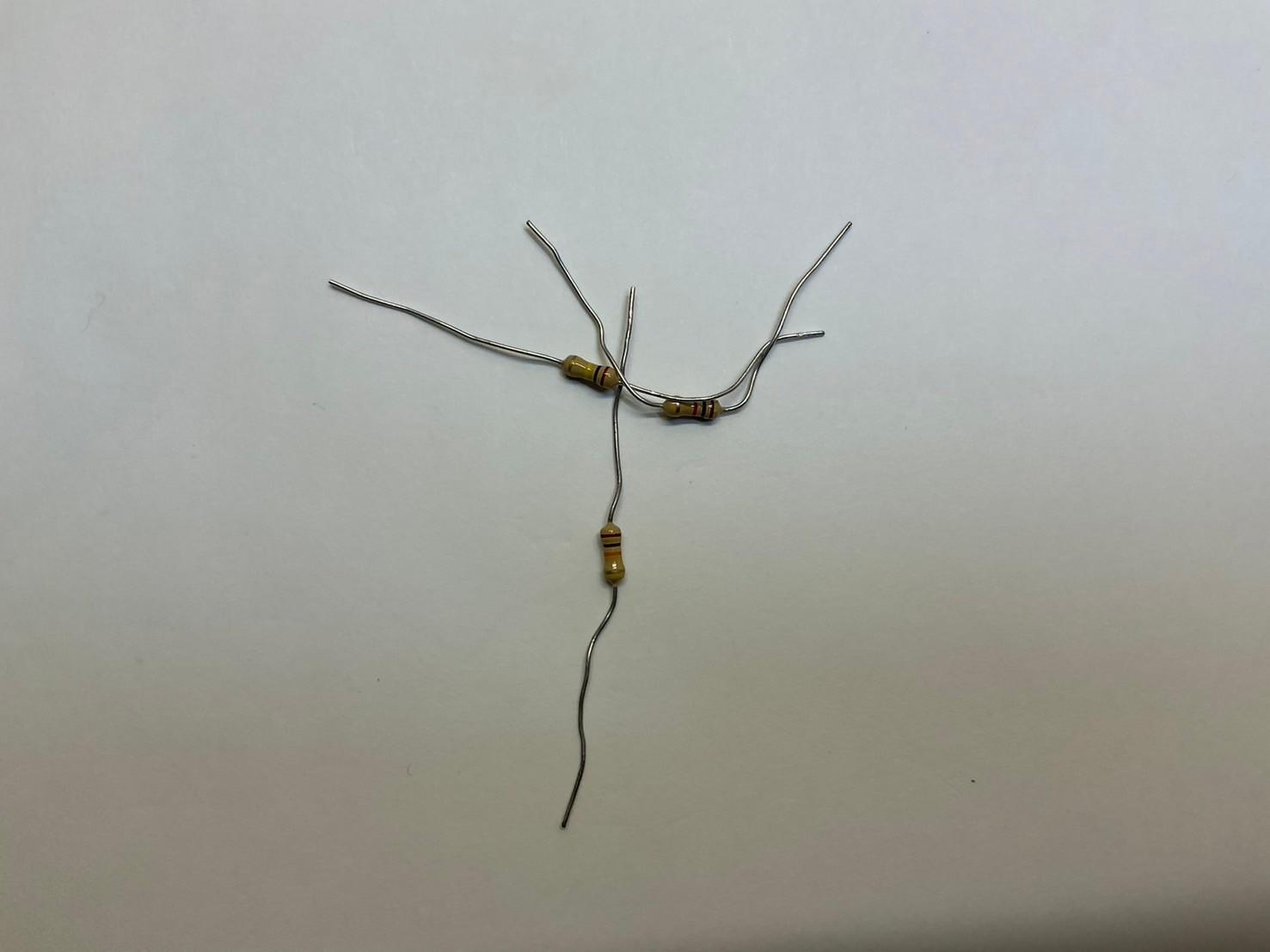resistor: (561, 352, 622, 391), (596, 524, 628, 589), (661, 394, 723, 424)
